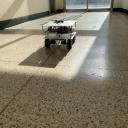cart: (42, 20, 76, 48)
